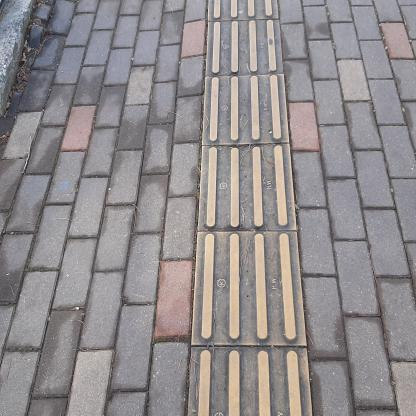podotacti: (173, 0, 324, 415)
